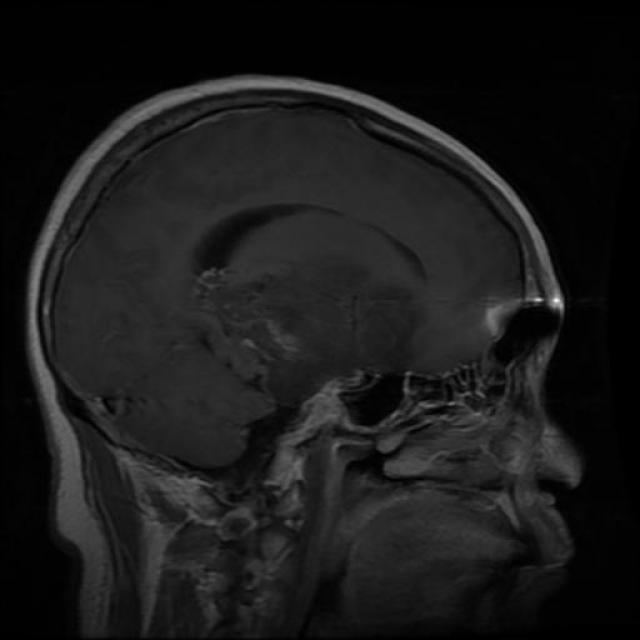glioma: (190, 201, 426, 369)
